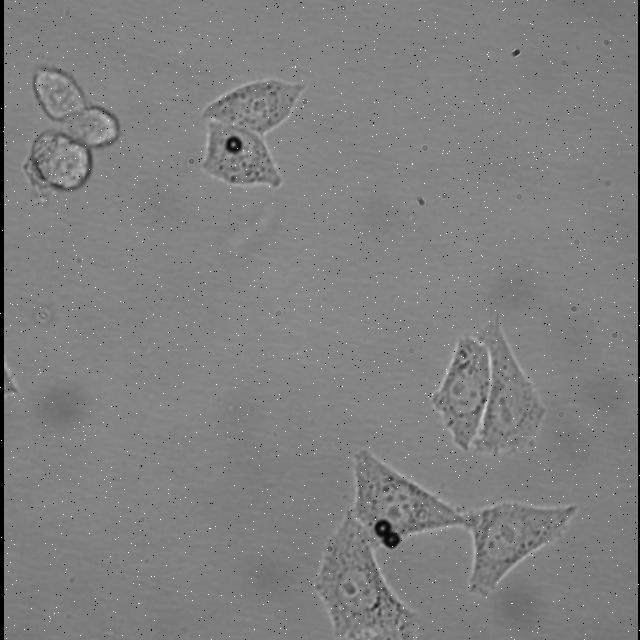microbeads: (371, 516, 394, 538), (381, 530, 403, 548), (224, 137, 242, 157)
